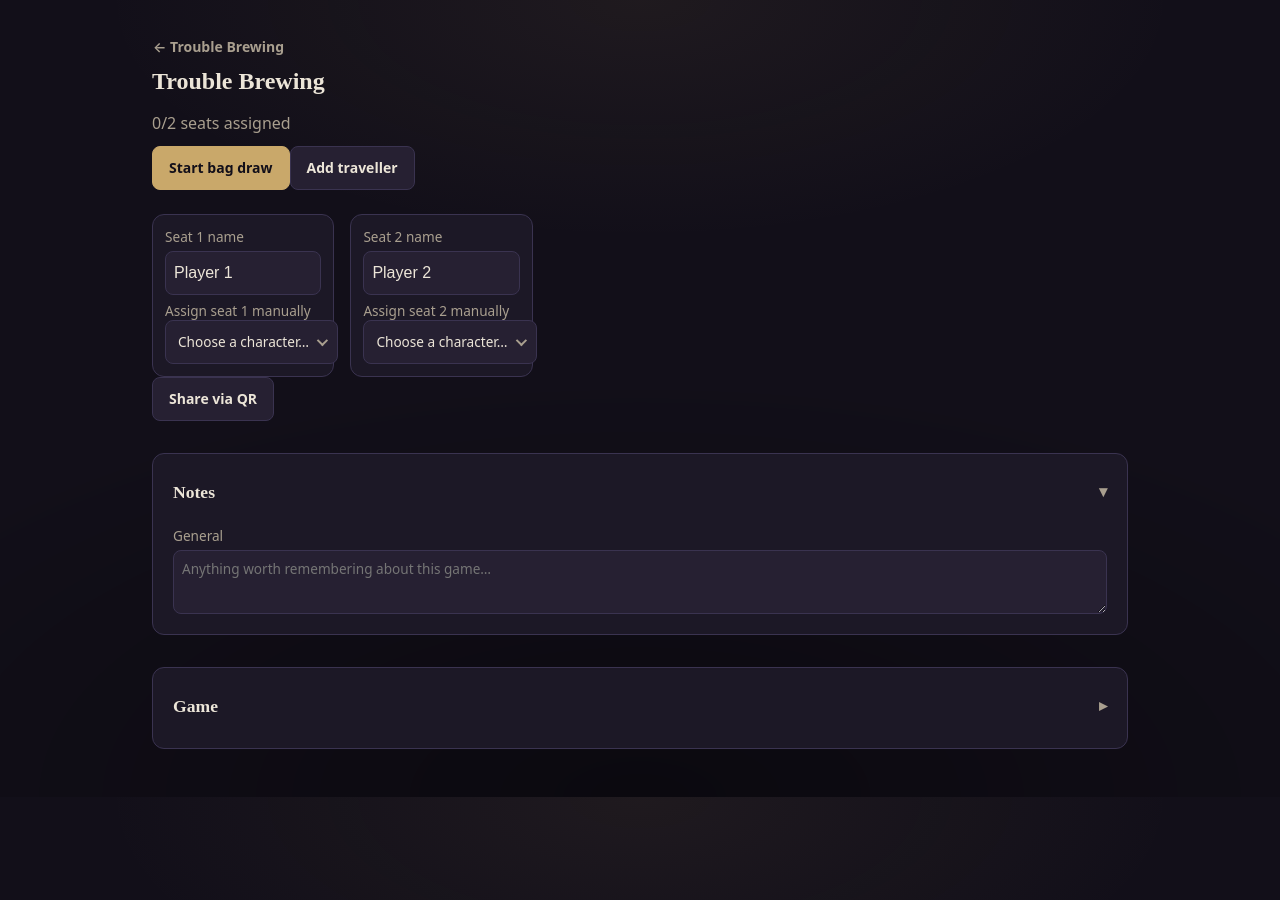
it: bag draw: shuffle, immediate reveal, name & advance › offers no way to advance a reveal without naming the drawing player (issue #210)
The width and height of the screenshot is (1280, 900).
Step 1. Click the button "Start bag draw" → (221, 168), box [152,146,290,190]
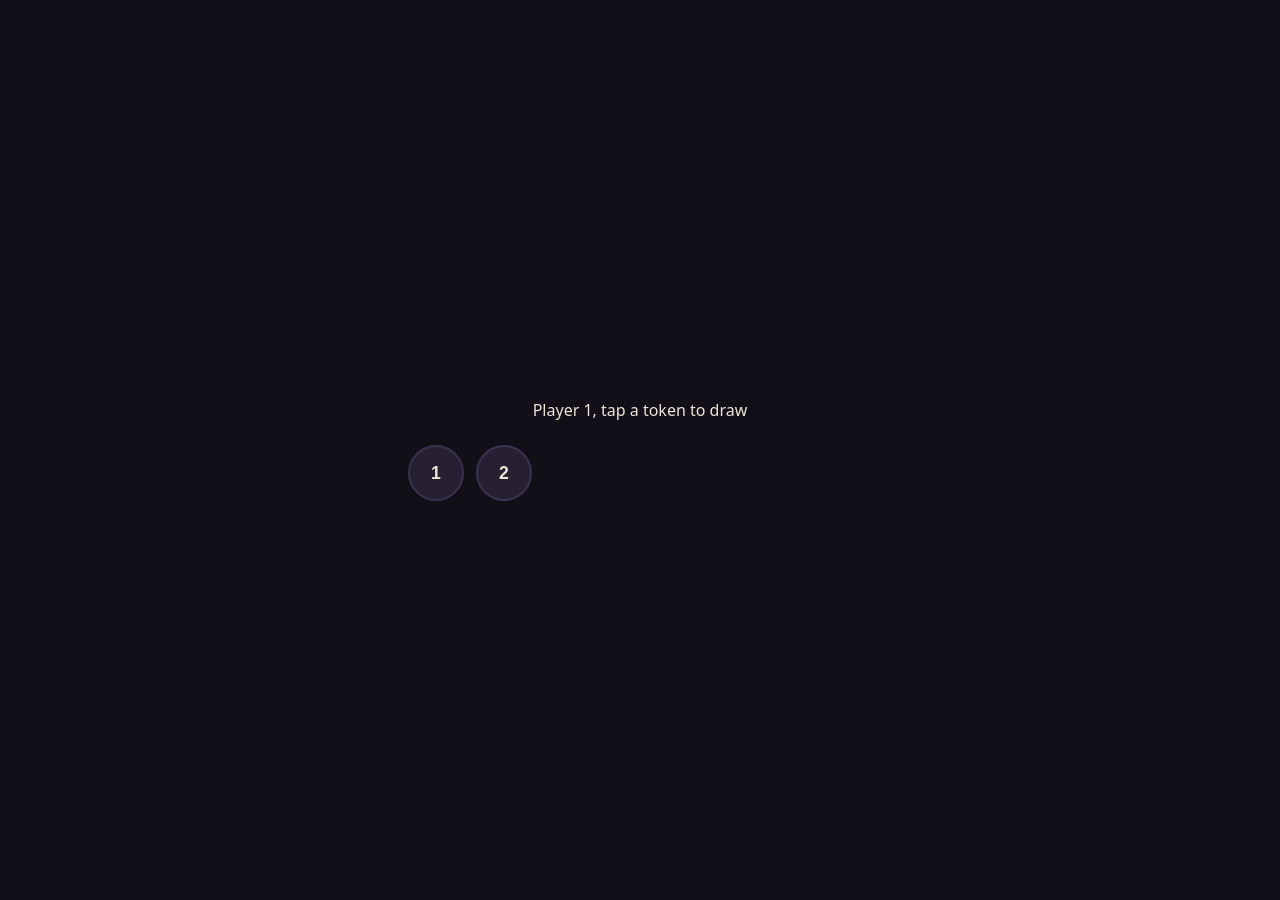
Step 2. Click the button named "Face-down token" → (436, 473), box [408,445,464,501]
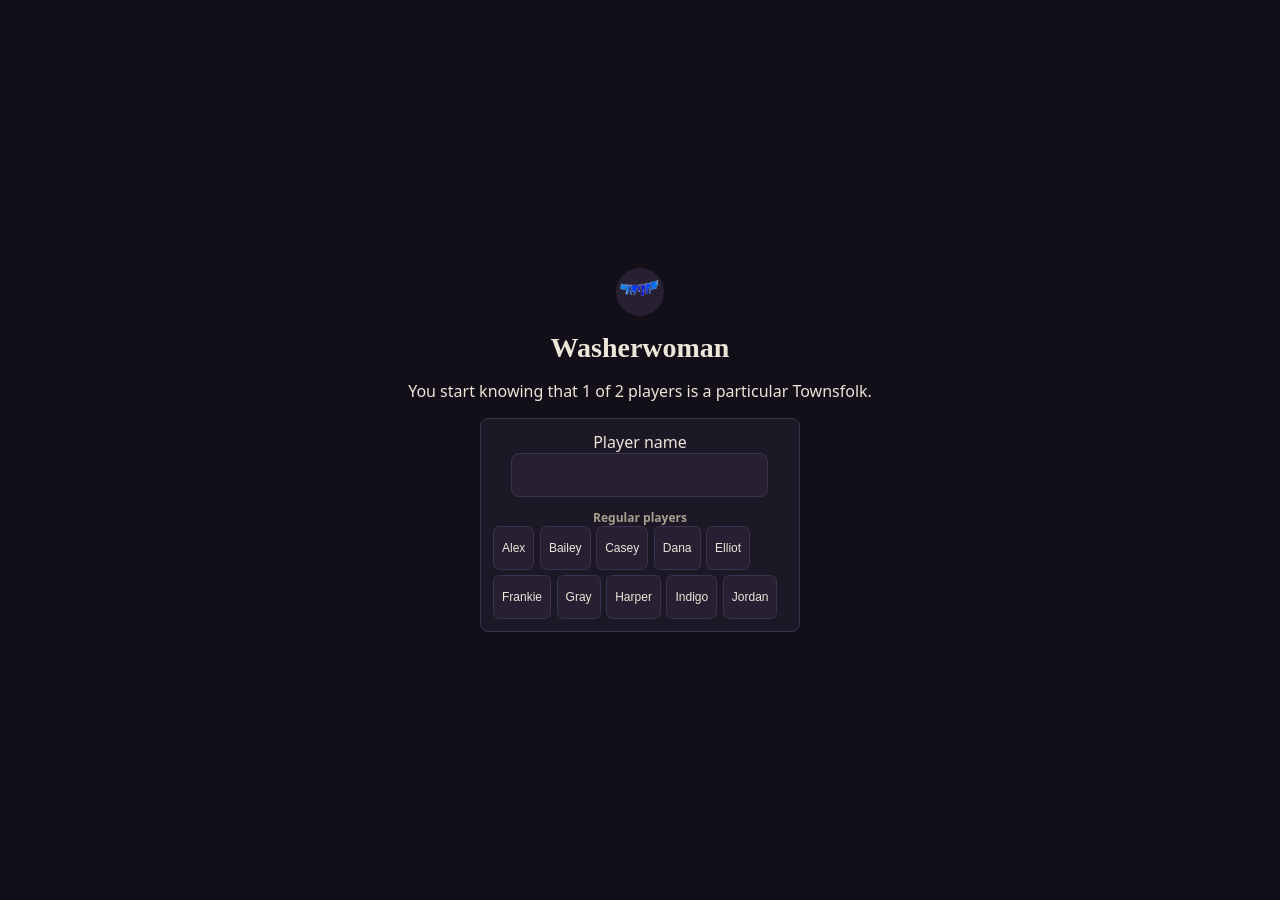
Result: the field labelled "Player name" is shown at [512,453,768,497]
